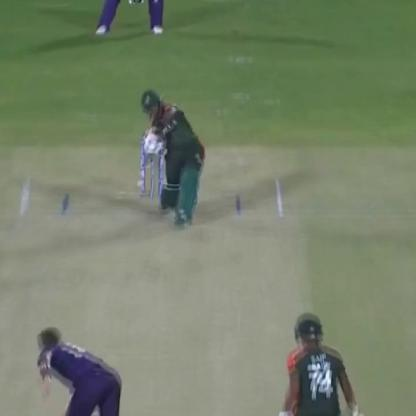ball: (128, 176, 149, 192)
bat: (140, 136, 164, 162)
pitch: (2, 173, 321, 416)
